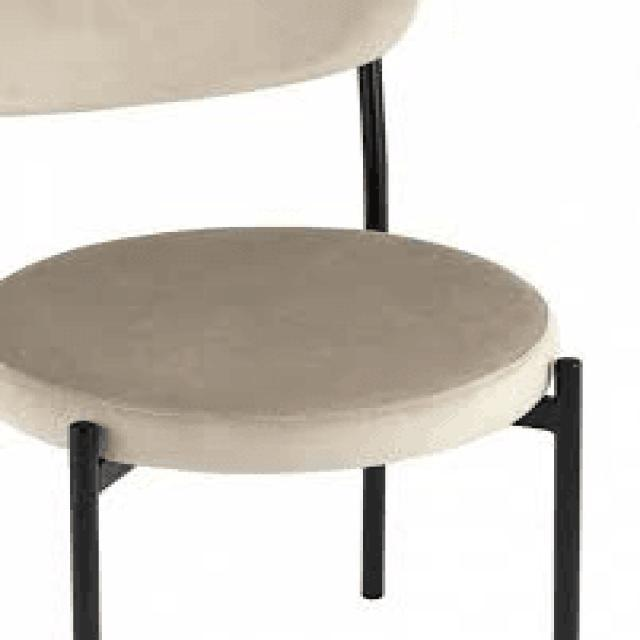chair: (0, 0, 589, 640), (5, 0, 594, 434)
